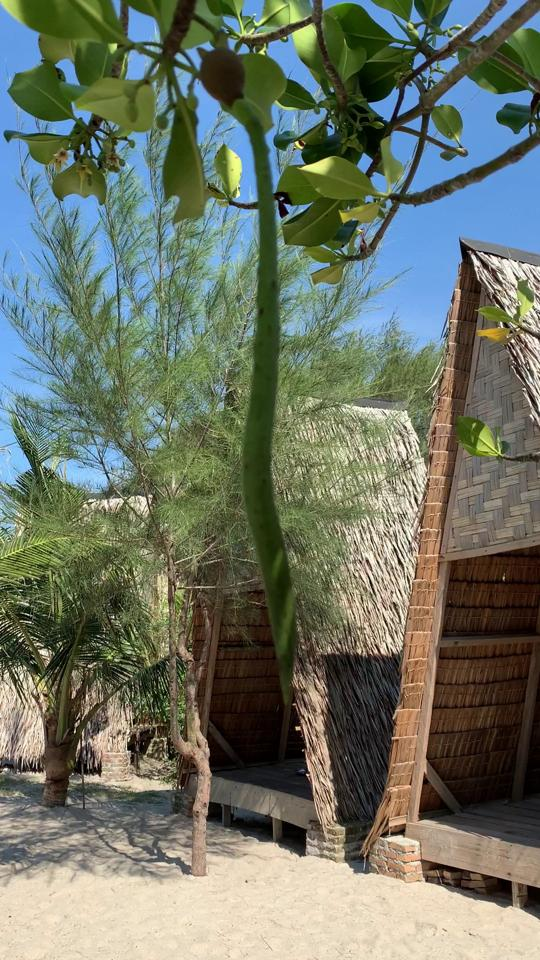setengah matang: (191, 34, 317, 708)
